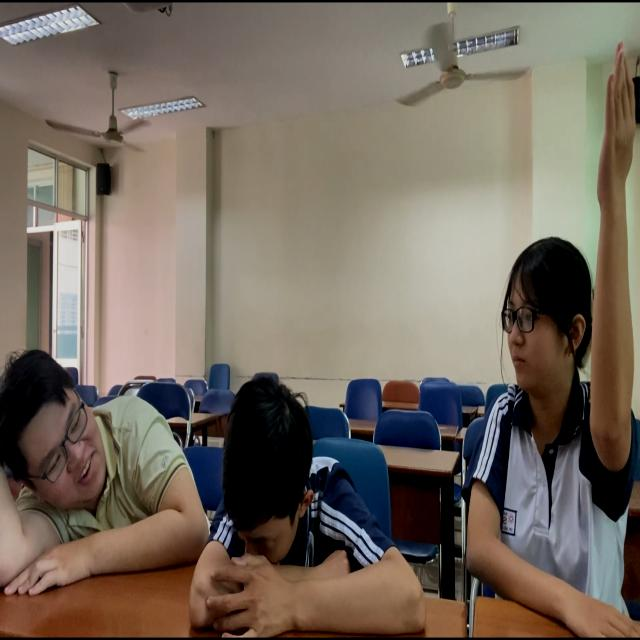raise_hand: (470, 42, 640, 640)
sleep: (199, 363, 431, 640), (1, 362, 197, 574)
